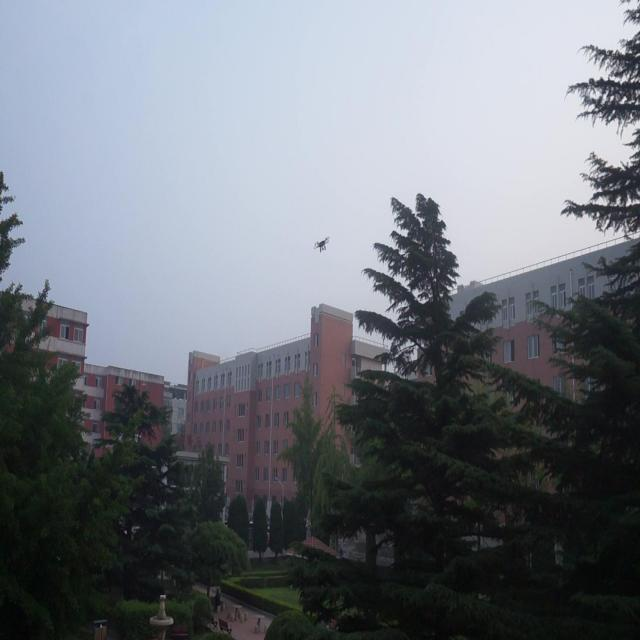UAV: (314, 236, 329, 253)
